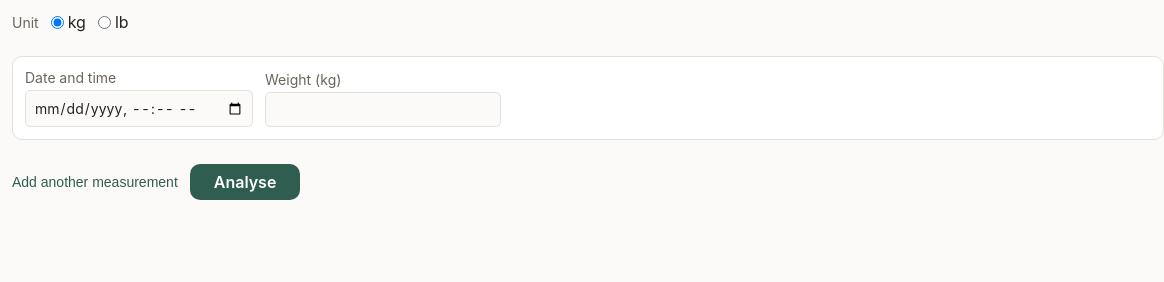
MeasurementForm › rejects a row with a weight but no date, and does not submit
This screenshot has width=1164, height=282.
Type "72" into the number field labelled "Weight (kg)" at [383, 110], box [265, 92, 501, 127]
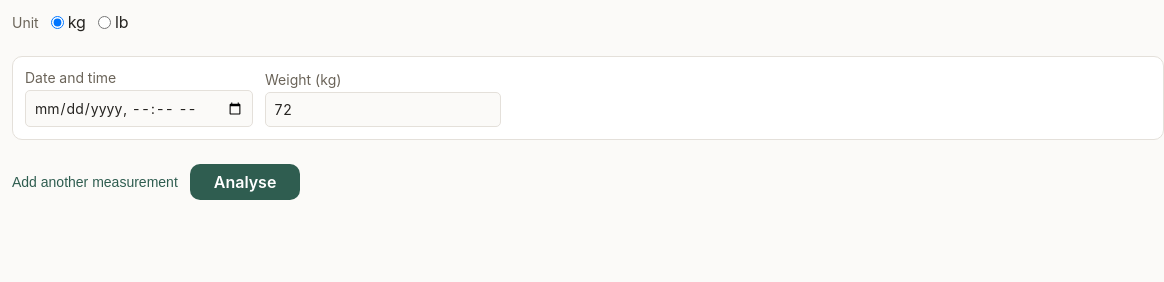
Click the button "Analyse" at [245, 182], box [190, 164, 300, 200]
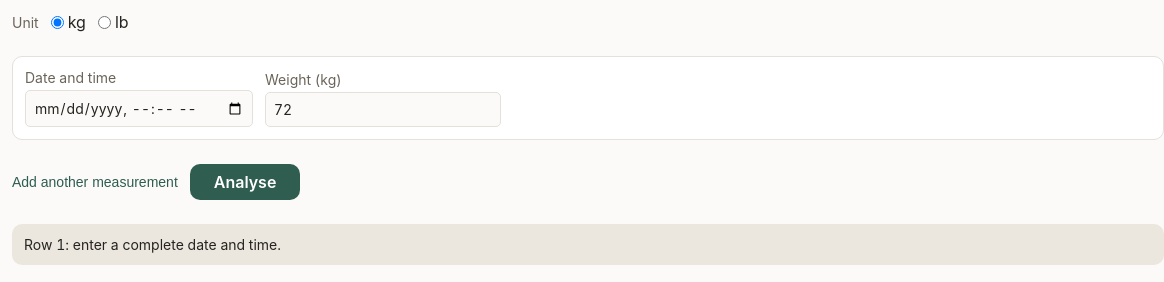
Now the message shows "Row 1", box [24, 236, 281, 253]
